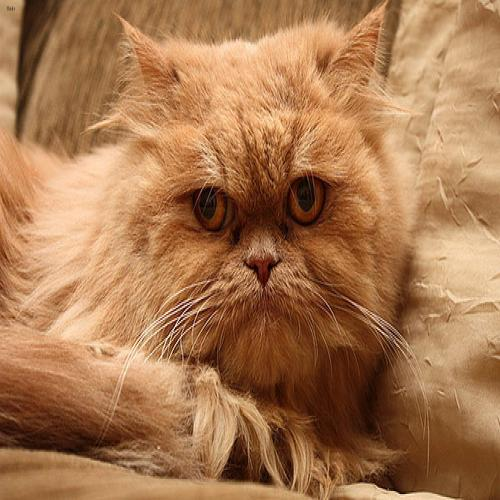persian: (116, 2, 398, 405)
